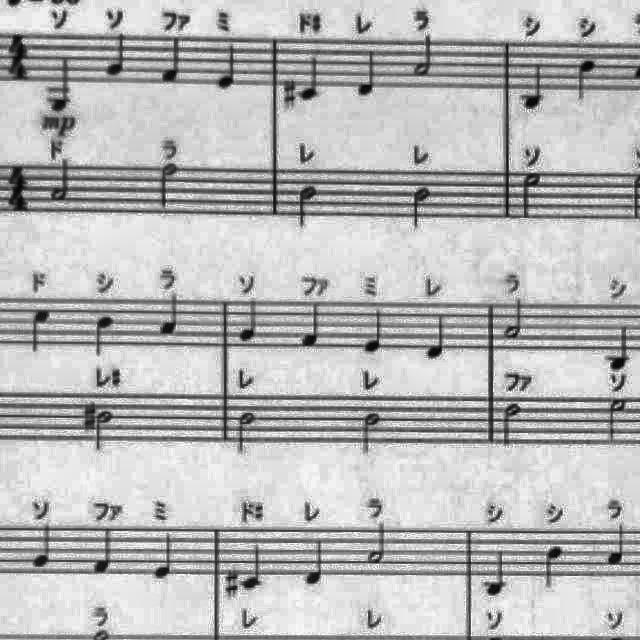Diez: (280, 77, 298, 115), (82, 398, 100, 434), (224, 566, 240, 602)
Half-note: (516, 168, 548, 222), (156, 159, 184, 213), (497, 398, 525, 450), (604, 395, 630, 449), (292, 183, 320, 233), (48, 155, 76, 205), (410, 31, 438, 80), (358, 410, 384, 460), (501, 296, 527, 344), (234, 408, 260, 456), (410, 184, 434, 234), (364, 518, 388, 566), (94, 408, 118, 454)
Quarter-note: (46, 53, 78, 115), (604, 321, 636, 374), (481, 544, 511, 600), (26, 302, 56, 356), (519, 62, 549, 115), (214, 38, 242, 94), (90, 524, 118, 580), (28, 518, 58, 570), (152, 529, 180, 583), (160, 34, 188, 88), (90, 311, 120, 361), (153, 292, 183, 342), (424, 311, 452, 364), (238, 540, 266, 592), (360, 306, 388, 358), (102, 30, 130, 82), (353, 44, 379, 100), (298, 298, 326, 350), (539, 540, 567, 592), (304, 534, 330, 590), (602, 521, 630, 571), (234, 294, 262, 344), (298, 51, 324, 103), (572, 54, 600, 102)
